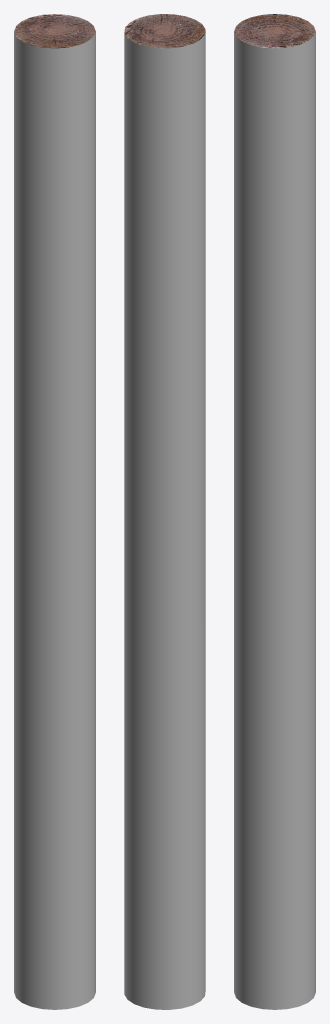
The model's file is Log.fbx.
3 renders of one model, left to right at view 1: azimuth 90°, elevation 25°; view 2: azimuth 150°, elevation 25°; view 3: azimuth 270°, elevation 25°, orthographic.
Parts seen in each view (by area): view 1: pCylinder1; view 2: pCylinder1; view 3: pCylinder1.
Boxes of the visible parts, x1,y1,x2,y2 form: pCylinder1: (14, 14, 95, 1009); pCylinder1: (124, 14, 205, 1009); pCylinder1: (234, 14, 315, 1009).
Bounding box in the file's own units: 2.55 × 33.1 × 2.55.
